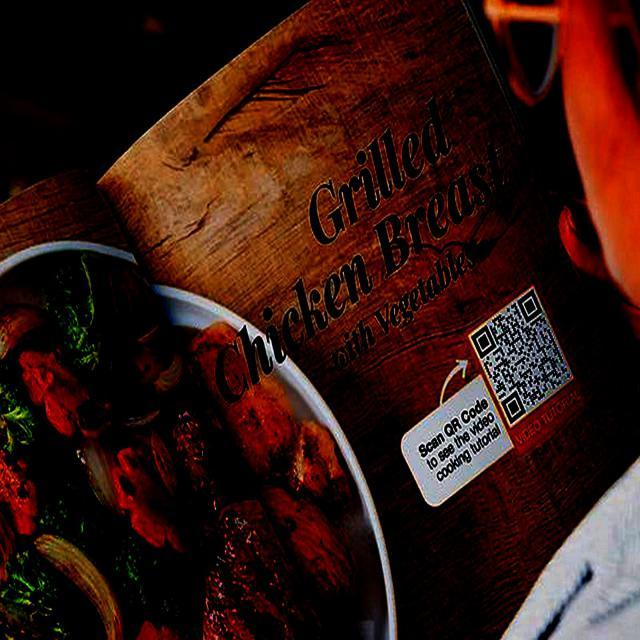qr_code: (471, 289, 573, 424)
